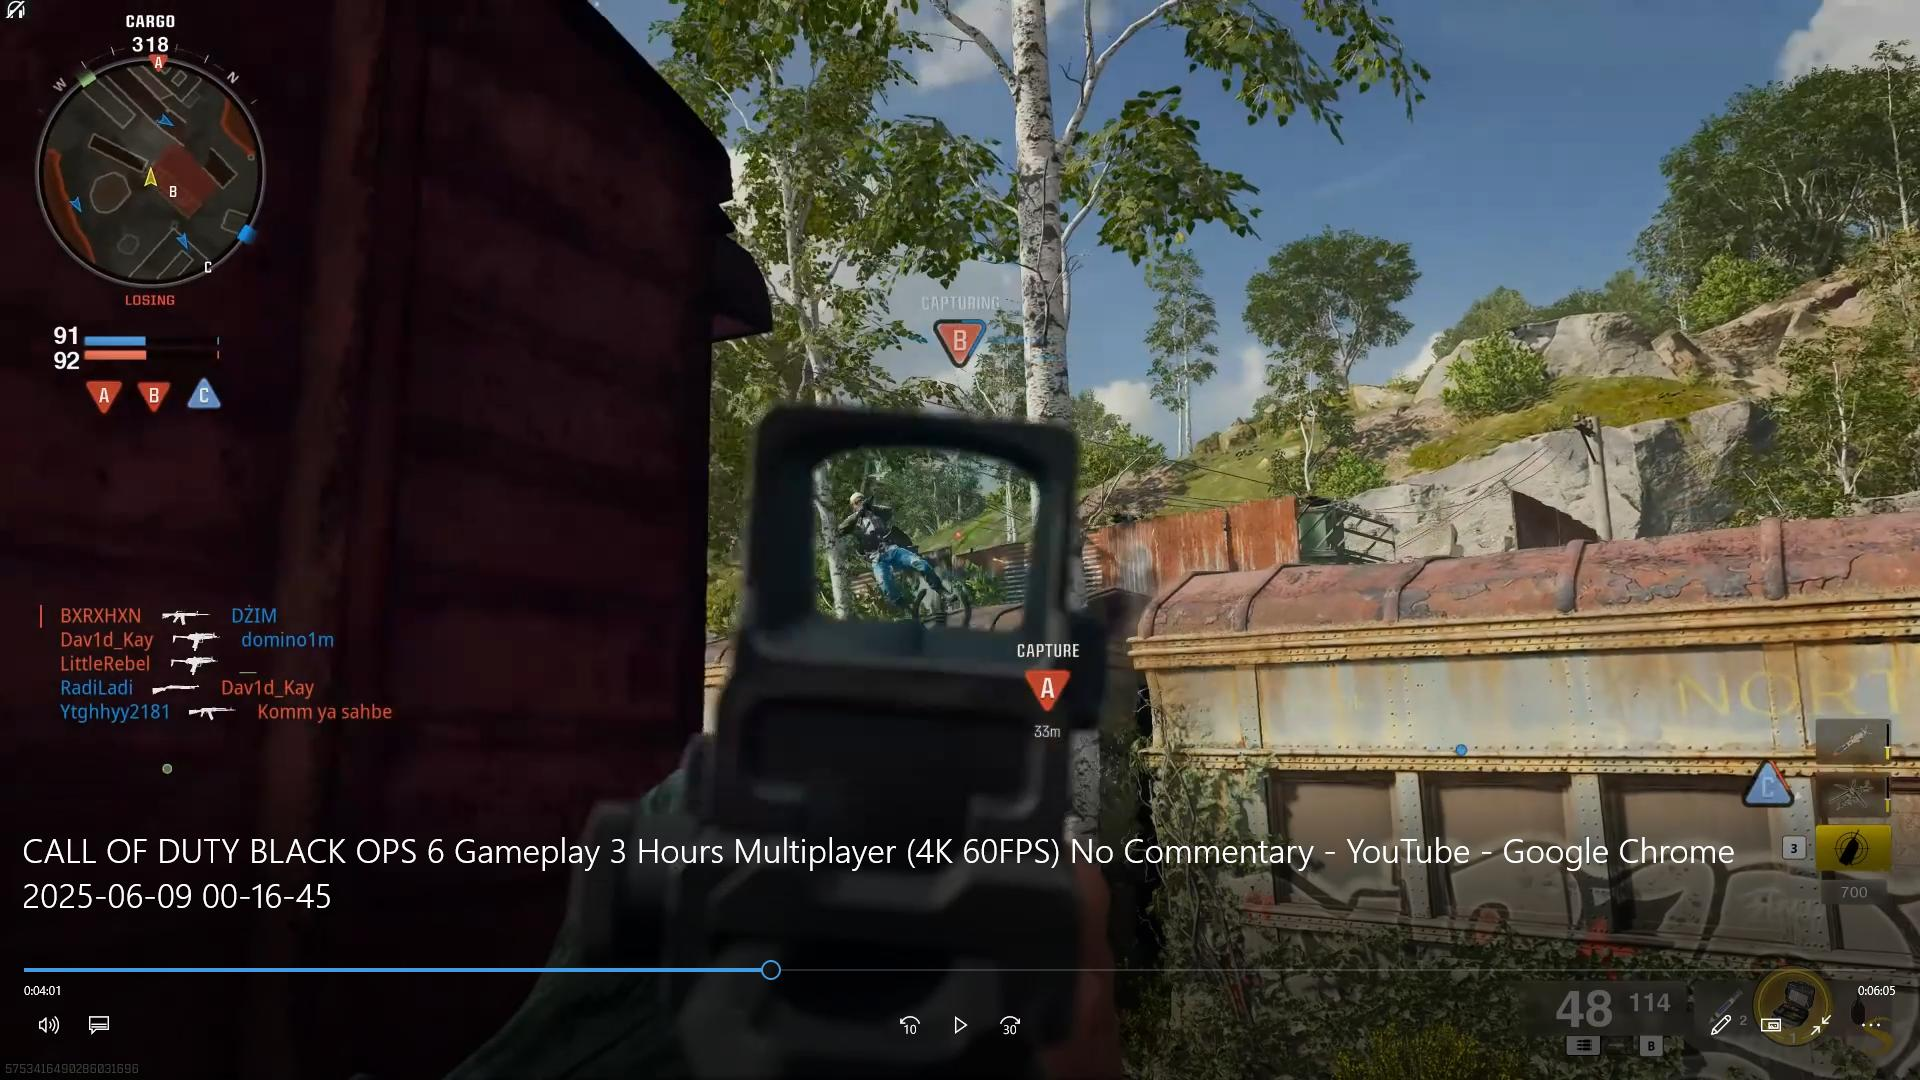Enemy: (828, 485, 956, 620)
